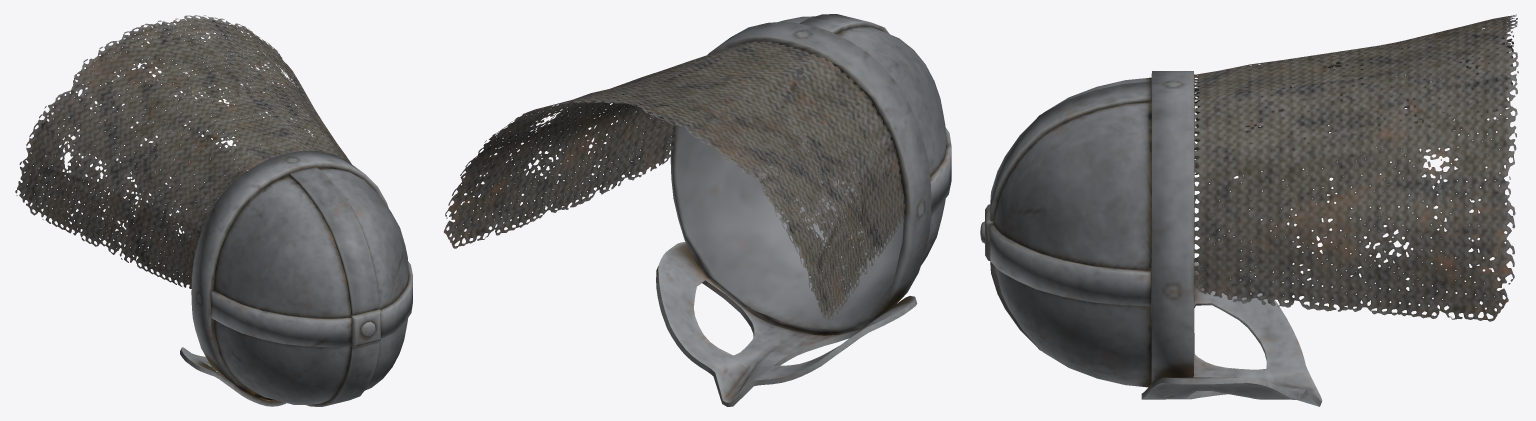
Rendered from viking_helmet.glb.
3 renders of one model, left to right at view 1: azimuth 30°, elevation 25°; view 2: azimuth 150°, elevation 25°; view 3: azimuth 270°, elevation 25°, orthographic. The views are drawn at different scales.
Visible parts, largest first — view 1: Viking_Helmet_VikingHelmet.001_0; view 2: Viking_Helmet_VikingHelmet.001_0; view 3: Viking_Helmet_VikingHelmet.001_0.
Boxes of the visible parts, bbox=[...] form: Viking_Helmet_VikingHelmet.001_0: bbox=[15, 15, 412, 406]; Viking_Helmet_VikingHelmet.001_0: bbox=[443, 14, 951, 406]; Viking_Helmet_VikingHelmet.001_0: bbox=[980, 14, 1518, 406].
Bounding box in the file's own units: 0.4258 × 0.4 × 0.525.
1 material, 1 textured.
